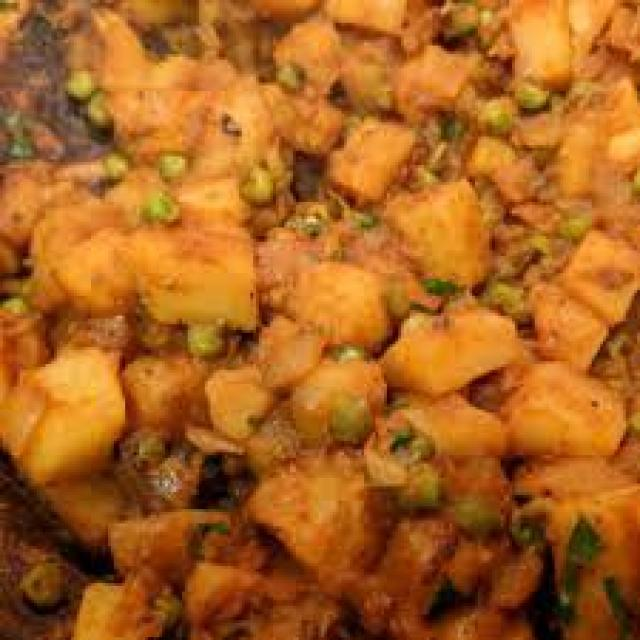potato: (9, 17, 630, 637)
